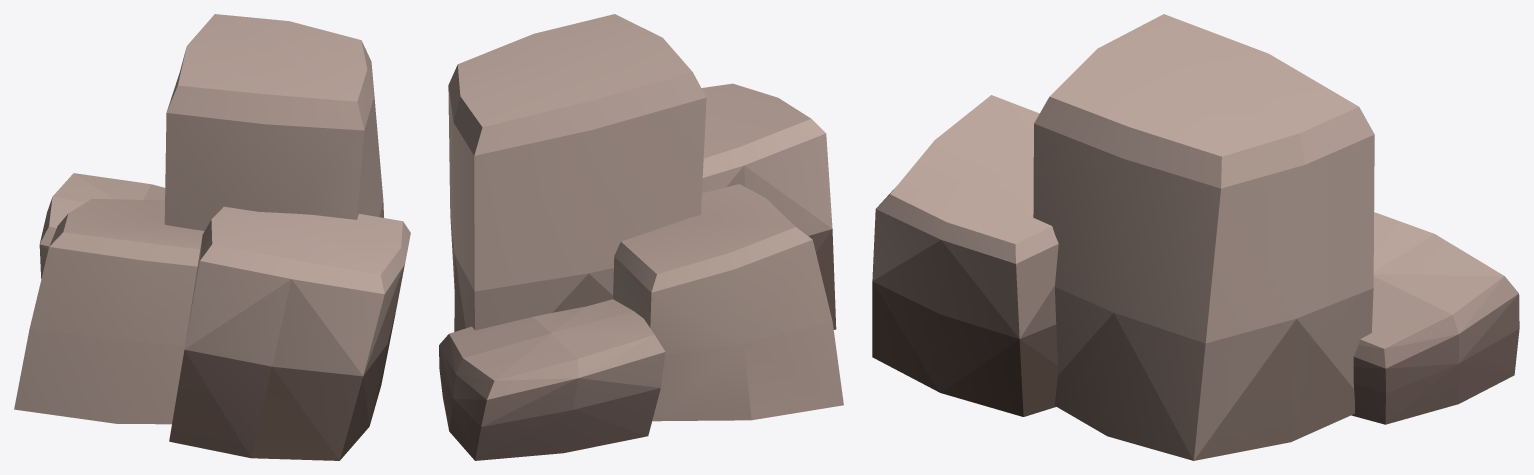
File: angular_rock_block.glb
The picture shows the model from 3 angles, left to right: view 1: azimuth 30°, elevation 25°; view 2: azimuth 150°, elevation 25°; view 3: azimuth 270°, elevation 25°; orthographic projection. The views are drawn at different scales.
Bounding box in the file's own units: 1.09 × 0.8 × 1.42.
